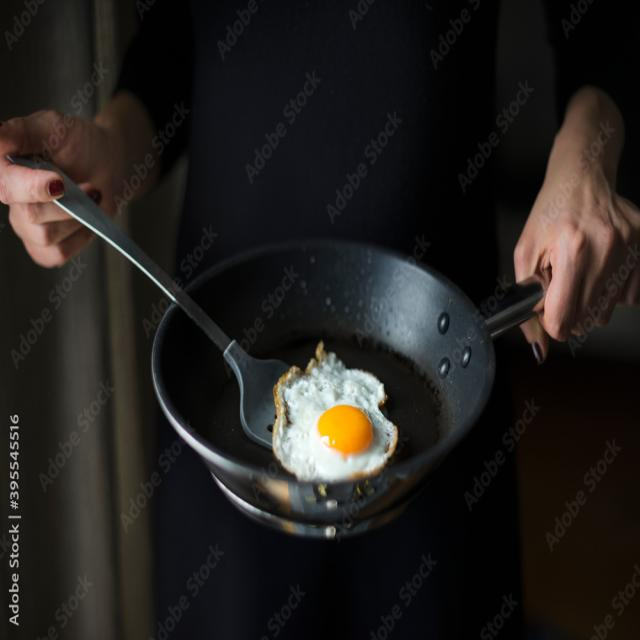Egg: (272, 341, 398, 481)
